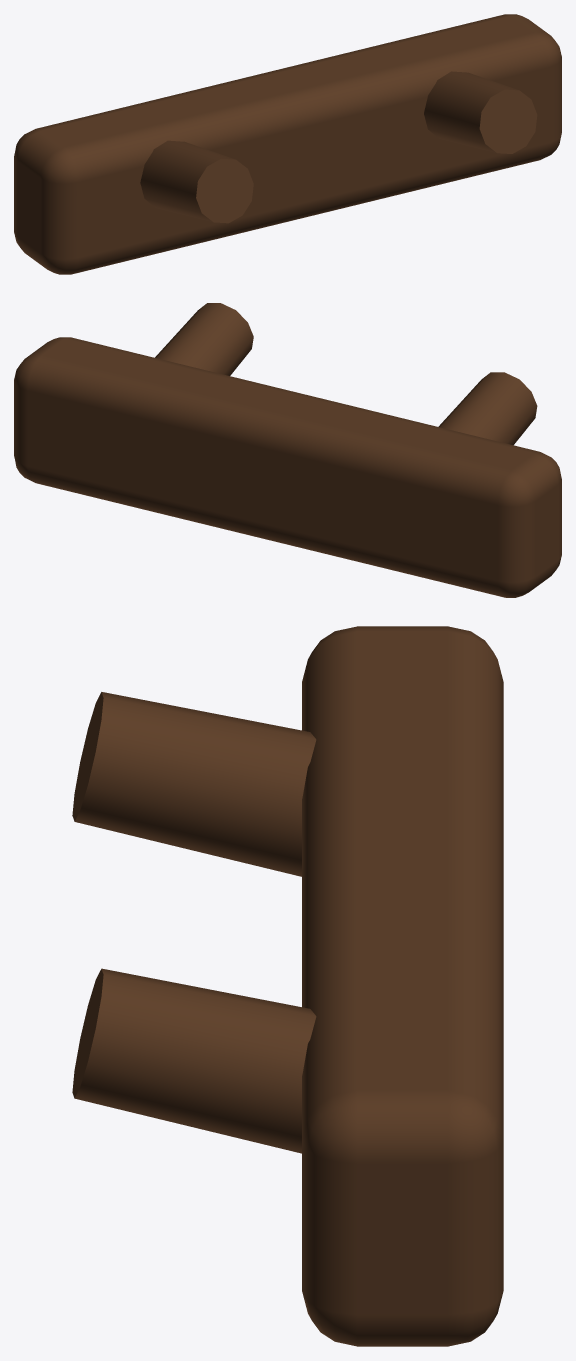
Rendered from scetis-cuier.glb.
3 views of the same model, one above another, from view 1: azimuth 30°, elevation 25°; view 2: azimuth 150°, elevation 25°; view 3: azimuth 270°, elevation 25° (orthographic). The views are drawn at different scales.
Parts seen in each view (by area): view 1: scetis-cuier; view 2: scetis-cuier; view 3: scetis-cuier.
Part boxes in pixels (box(x1,y1,x2,y2)): scetis-cuier: box(14, 14, 561, 274); scetis-cuier: box(14, 303, 561, 597); scetis-cuier: box(72, 626, 503, 1346).
Bounding box in the file's own units: 0.95 × 0.2415 × 0.3424.
